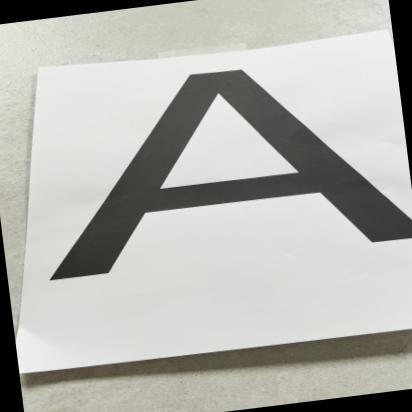seat: (19, 22, 412, 307)
